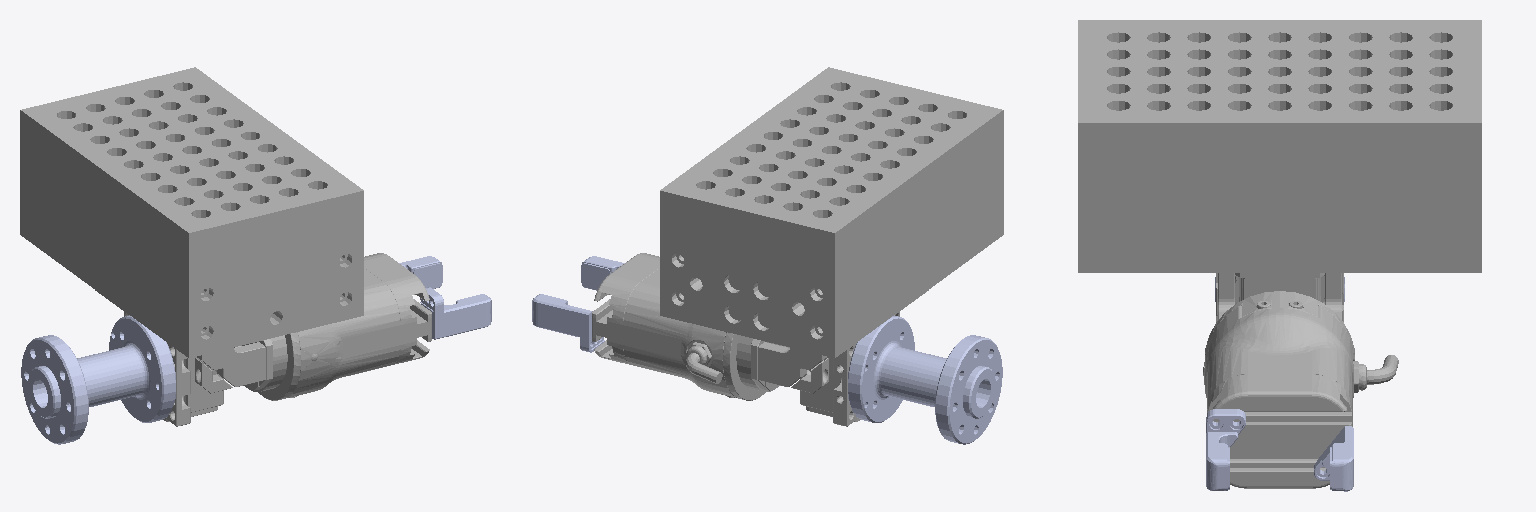
URDF robot description (tmF06):
<?xml version="1.0" encoding="utf-8"?>
<!-- This URDF was automatically created by SolidWorks to URDF Exporter! Originally created by [author] ([email redacted]) 
     Commit Version: 1.6.0-4-g7f85cfe  Build Version: 1.6.7995.38578
     For more information, please see http://wiki.ros.org/sw_urdf_exporter -->
<robot
  name="tmF06">
  <link
    name="base_link">
    <inertial>
      <origin
        xyz="0.0398421019416446 -4.32564189552617E-05 -1.48514635881769E-05"
        rpy="0 0 0" />
      <mass
        value="0.0848757789777957" />
      <inertia
        ixx="3.63171215506554E-05"
        ixy="1.10722378083938E-07"
        ixz="4.05900756811043E-08"
        iyy="8.07037822008396E-05"
        iyz="5.45259939296919E-11"
        izz="8.04730937818987E-05" />
    </inertial>
    <visual>
      <origin
        xyz="0 0 0"
        rpy="0 0 0" />
      <geometry>
        <mesh
          filename="package://tmF06/meshes/base_link.STL" />
      </geometry>
      <material
        name="">
        <color
          rgba="0.792156862745098 0.819607843137255 0.929411764705882 1" />
      </material>
    </visual>
    <collision>
      <origin
        xyz="0 0 0"
        rpy="0 0 0" />
      <geometry>
        <mesh
          filename="package://tmF06/meshes/base_link.STL" />
      </geometry>
    </collision>
  </link>
  <link
    name="AKE">
    <inertial>
      <origin
        xyz="0.0914651645111982 0.000479455366529743 -0.00189335285915867"
        rpy="0 0 0" />
      <mass
        value="0.0590242532705572" />
      <inertia
        ixx="3.18527095100942E-05"
        ixy="1.72512364360481E-07"
        ixz="3.91248939799136E-07"
        iyy="2.87397645096793E-05"
        iyz="-5.45619982968746E-08"
        izz="2.48658577044853E-05" />
    </inertial>
    <visual>
      <origin
        xyz="0 0 0"
        rpy="0 0 0" />
      <geometry>
        <mesh
          filename="package://tmF06/meshes/AKE.STL" />
      </geometry>
      <material
        name="">
        <color
          rgba="0.741176470588235 0.741176470588235 0.741176470588235 1" />
      </material>
    </visual>
    <collision>
      <origin
        xyz="0 0 0"
        rpy="0 0 0" />
      <geometry>
        <mesh
          filename="package://tmF06/meshes/AKE.STL" />
      </geometry>
    </collision>
  </link>
  <joint
    name="AKE"
    type="fixed">
    <origin
      xyz="0 0 0"
      rpy="0 0 0" />
    <parent
      link="base_link" />
    <child
      link="AKE" />
    <axis
      xyz="0 0 0" />
  </joint>
  <link
    name="TMF_J1">
    <inertial>
      <origin
        xyz="-0.0161973112050794 0.0728866304639082 -0.0199346346390931"
        rpy="0 0 0" />
      <mass
        value="1.64416195967455" />
      <inertia
        ixx="0.00792270442132492"
        ixy="-1.00267916514695E-05"
        ixz="-1.08513569422948E-05"
        iyy="0.00932926621899306"
        iyz="-0.00238885375918226"
        izz="0.00893650238669853" />
    </inertial>
    <visual>
      <origin
        xyz="0 0 0"
        rpy="0 0 0" />
      <geometry>
        <mesh
          filename="package://tmF06/meshes/TMF_J1.STL" />
      </geometry>
      <material
        name="">
        <color
          rgba="0.741176470588235 0.741176470588235 0.741176470588235 1" />
      </material>
    </visual>
    <collision>
      <origin
        xyz="0 0 0"
        rpy="0 0 0" />
      <geometry>
        <mesh
          filename="package://tmF06/meshes/TMF_J1.STL" />
      </geometry>
    </collision>
  </link>
  <joint
    name="TMF_J1"
    type="revolute">
    <origin
      xyz="0.104 -0.01635 0"
      rpy="1.5708 0 -1.5708" />
    <parent
      link="AKE" />
    <child
      link="TMF_J1" />
    <axis
      xyz="1 0 0" />
    <limit
      lower="-90"
      upper="0"
      effort="0"
      velocity="0" />
  </joint>
  <link
    name="L_F">
    <inertial>
      <origin
        xyz="0.0306095757679273 -0.0018400275611248 0.0199514762241413"
        rpy="0 0 0" />
      <mass
        value="0.00789862123633928" />
      <inertia
        ixx="1.56971031786536E-06"
        ixy="-5.6403999208589E-08"
        ixz="-3.72182514535903E-08"
        iyy="1.38355549710685E-06"
        iyz="-2.21491316849311E-07"
        izz="4.23330248245995E-07" />
    </inertial>
    <visual>
      <origin
        xyz="0 0 0"
        rpy="0 0 0" />
      <geometry>
        <mesh
          filename="package://tmF06/meshes/L_F.STL" />
      </geometry>
      <material
        name="">
        <color
          rgba="0.792156862745098 0.819607843137255 0.929411764705882 1" />
      </material>
    </visual>
    <collision>
      <origin
        xyz="0 0 0"
        rpy="0 0 0" />
      <geometry>
        <mesh
          filename="package://tmF06/meshes/L_F.STL" />
      </geometry>
    </collision>
  </link>
  <joint
    name="L_joint"
    type="prismatic">
    <origin
      xyz="-0.01635 0 -0.1445"
      rpy="-3.1416 0 -3.1416" />
    <parent
      link="TMF_J1" />
    <child
      link="L_F" />
    <axis
      xyz="1 0 0" />
    <limit
      lower="0"
      upper="0.03"
      effort="0"
      velocity="0" />
  </joint>
  <link
    name="R_F">
    <inertial>
      <origin
        xyz="-0.0306095757679276 0.00184002756112005 0.0199514762241417"
        rpy="0 0 0" />
      <mass
        value="0.00789862123633926" />
      <inertia
        ixx="1.56971031786536E-06"
        ixy="-5.64039992085986E-08"
        ixz="3.72182514535738E-08"
        iyy="1.38355549710674E-06"
        iyz="2.21491316849565E-07"
        izz="4.23330248246111E-07" />
    </inertial>
    <visual>
      <origin
        xyz="0 0 0"
        rpy="0 0 0" />
      <geometry>
        <mesh
          filename="package://tmF06/meshes/R_F.STL" />
      </geometry>
      <material
        name="">
        <color
          rgba="0.792156862745098 0.819607843137255 0.929411764705882 1" />
      </material>
    </visual>
    <collision>
      <origin
        xyz="0 0 0"
        rpy="0 0 0" />
      <geometry>
        <mesh
          filename="package://tmF06/meshes/R_F.STL" />
      </geometry>
    </collision>
  </link>
  <joint
    name="R_joint"
    type="prismatic">
    <origin
      xyz="-0.01635 0 -0.1445"
      rpy="-3.1416 0 -3.1416" />
    <parent
      link="TMF_J1" />
    <child
      link="R_F" />
    <axis
      xyz="1 0 0" />
    <limit
      lower="-0.03"
      upper="0"
      effort="0"
      velocity="0" />
  </joint>
</robot>

--- Facts derived from the render (not from the file) ---
The picture shows the robot from 3 angles, left to right: view 1: azimuth 30°, elevation 25°; view 2: azimuth 150°, elevation 25°; view 3: azimuth 270°, elevation 25°; orthographic projection.
Robot: tmF06 — 5 links, 4 joints (1 revolute, 2 prismatic, 1 fixed); root link base_link; default pose: all joints at 0.
Links seen in each view (by area): view 1: TMF_J1, base_link, R_F, AKE, L_F; view 2: TMF_J1, base_link, AKE, L_F, R_F; view 3: TMF_J1, R_F, L_F, AKE.
Link boxes in pixels (<box>): TMF_J1: <box>20,67,431,400</box>; base_link: <box>21,315,175,444</box>; R_F: <box>420,287,491,339</box>; AKE: <box>124,312,223,426</box>; L_F: <box>399,256,442,288</box>; TMF_J1: <box>592,67,1003,400</box>; base_link: <box>848,315,1002,444</box>; AKE: <box>800,312,899,426</box>; L_F: <box>532,294,604,352</box>; R_F: <box>581,256,624,290</box>; TMF_J1: <box>1078,20,1481,488</box>; R_F: <box>1206,409,1245,490</box>; L_F: <box>1314,426,1353,491</box>; AKE: <box>1216,273,1343,321</box>.
Size in the robot's own frame: 0.2905 by 0.2 by 0.1726 metres.
5 mesh visuals loaded from 5 distinct referenced files (5 binary STL).